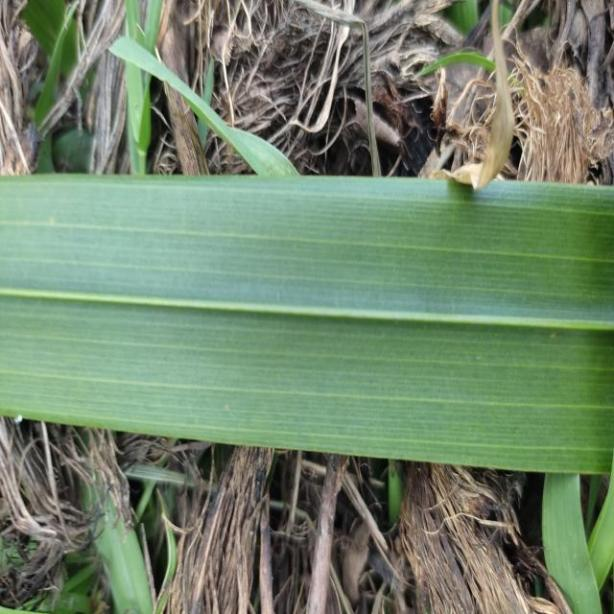Healthy: (0, 174, 614, 472)
